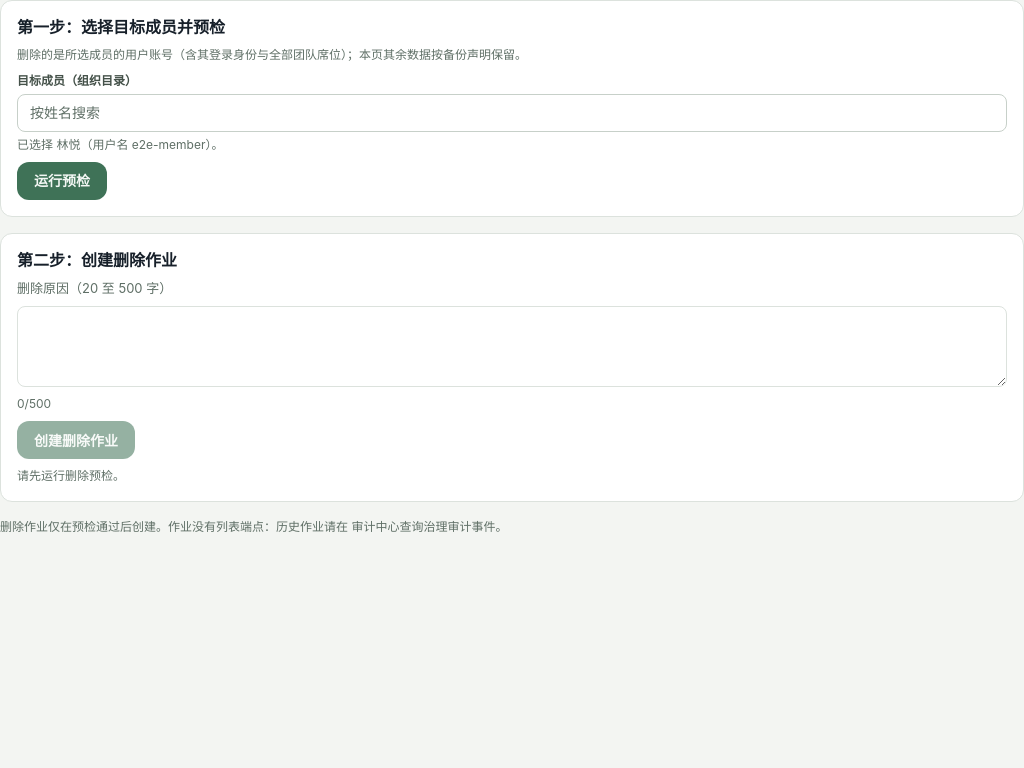
Scenario: OrganizationDeletionWorkflow › blocks create until a clear precheck and a valid reason, then queues PENDING_CONFIRMATION
Submit the form that starts with "第一步：选择目标成员并预检", box left=0, top=0, right=1023, bottom=217
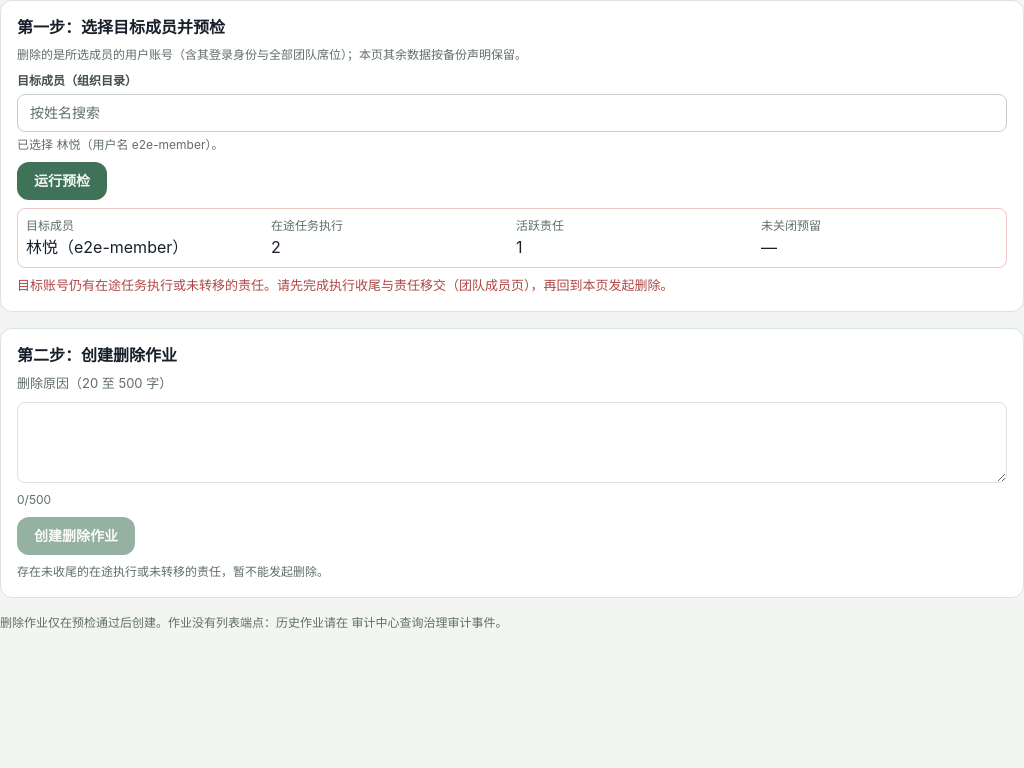
expect the text "林悦（e2e-member）" is shown: met, box left=26, top=237, right=188, bottom=257
expect the text "在途任务执行" is shown: met, box left=271, top=218, right=343, bottom=233
expect the text "存在未收尾的在途执行或未转移的责任，暂不能发起删除。" is shown: met, box left=17, top=564, right=329, bottom=579
Submit the form that starts with "第一步：选择目标成员并预检", box left=0, top=0, right=1023, bottom=312
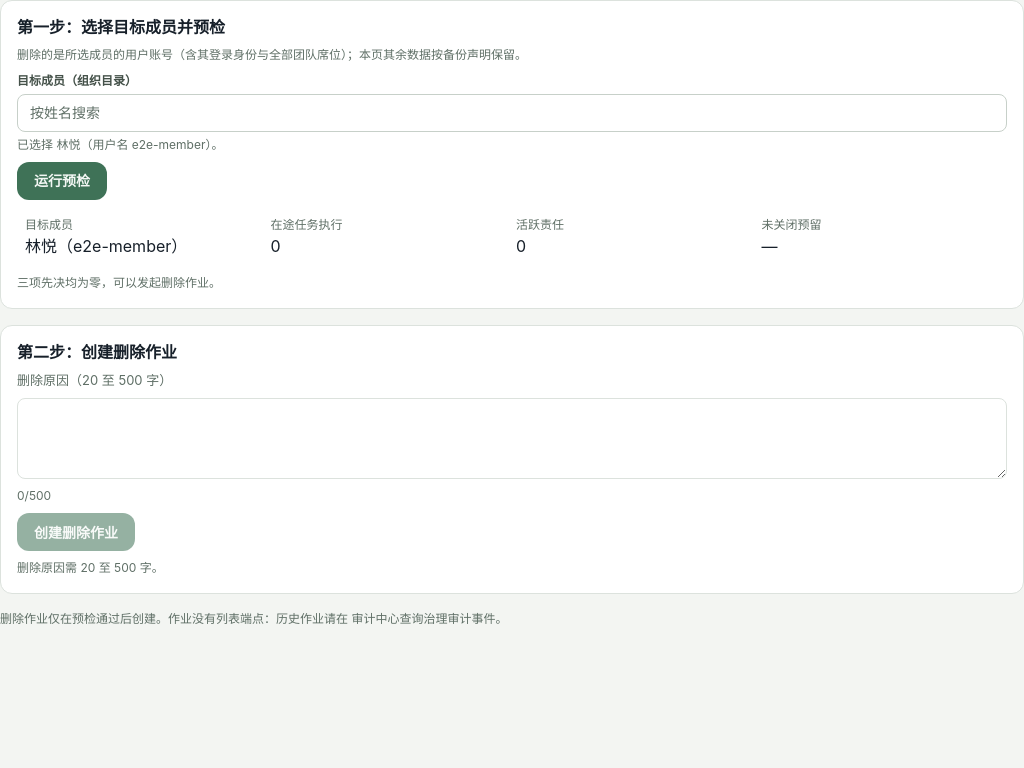
expect the button "创建删除作业" is disabled: met, box left=17, top=513, right=135, bottom=551
expect the text "三项先决均为零，可以发起删除作业。" is shown: met, box left=17, top=275, right=221, bottom=290
Type "太短" into the text box with id "org-deletion-reason".
click(512, 439); type("太短")  # box left=17, top=398, right=1007, bottom=479
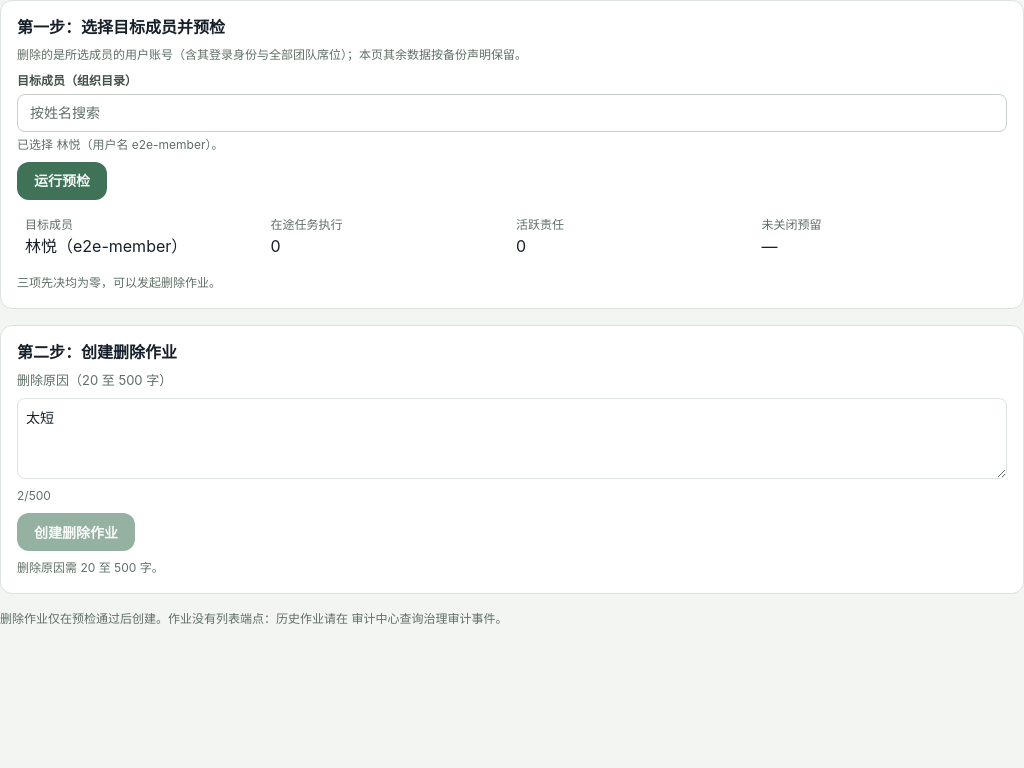
expect the button "创建删除作业" is disabled: met, box left=17, top=513, right=135, bottom=551
Replace the text in the text box with id "org-deletion-reason" with "离职账号清理，含满足最短长度要求的完整说明。" at (512, 439), box left=17, top=398, right=1007, bottom=479
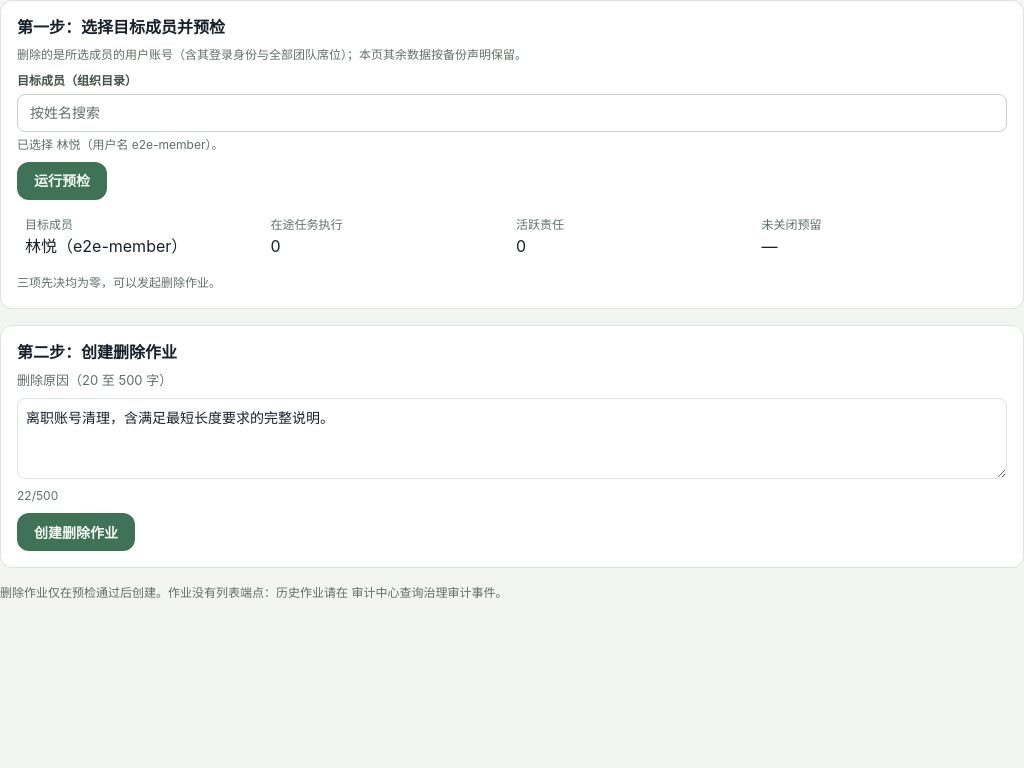
expect the button "创建删除作业" is enabled: met, box left=17, top=513, right=135, bottom=551
Submit the form "第二步：创建删除作业 删除原因（20 至 500 字） 22/500 创建删除作业", box left=0, top=325, right=1023, bottom=568
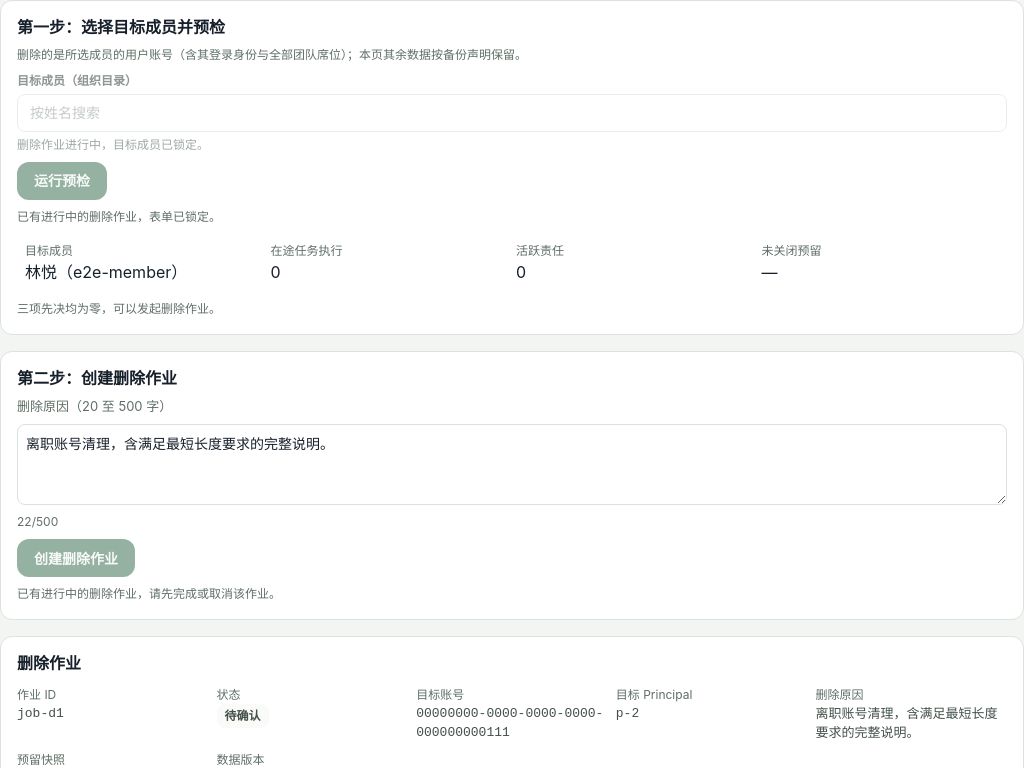
expect the text "待确认" is shown: met, box left=217, top=704, right=269, bottom=728
